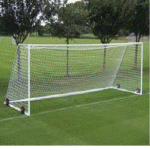goals: (3, 40, 143, 116)
